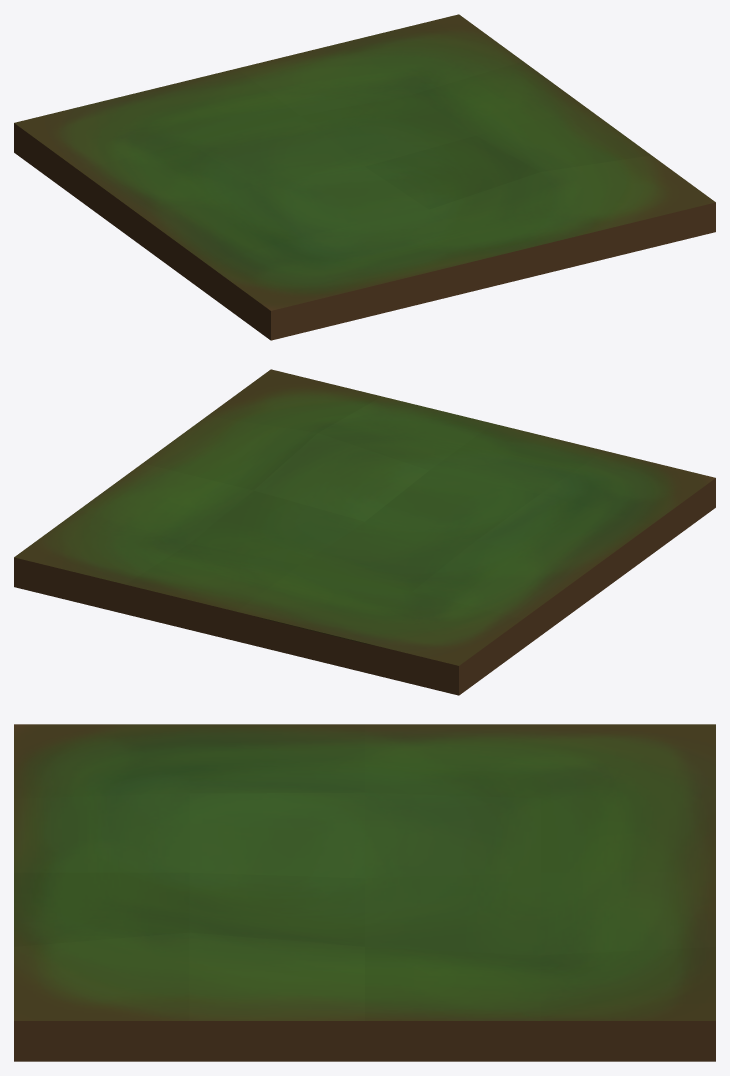
File: SimpleGrassFloor-2019.glb
3 views of the same model, one above another, from view 1: azimuth 30°, elevation 25°; view 2: azimuth 150°, elevation 25°; view 3: azimuth 270°, elevation 25° (orthographic). The views are drawn at different scales.
Parts seen in each view (by area): view 1: Cube; view 2: Cube; view 3: Cube.
Boxes of the visible parts, bbox=[...] form: Cube: bbox=[14, 14, 715, 340]; Cube: bbox=[14, 369, 715, 695]; Cube: bbox=[14, 724, 715, 1061].
Size of the model in its own units: 2 by 0.1723 by 2.
1 material, 1 textured.
